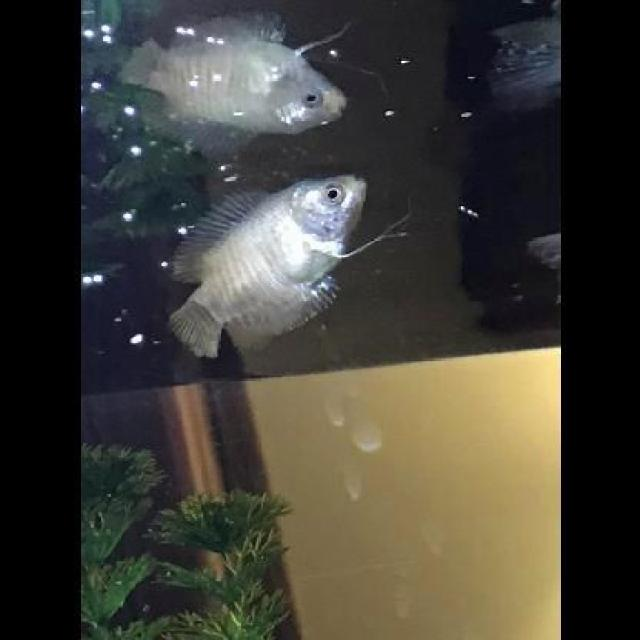Gourami: (168, 175, 382, 358)
